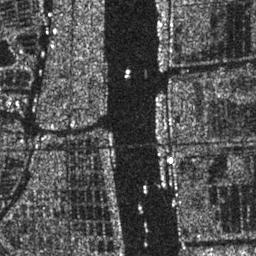ship: (155, 19, 165, 40), (156, 52, 166, 73), (106, 131, 115, 145), (124, 67, 131, 80), (143, 221, 150, 234), (137, 203, 144, 215), (143, 183, 148, 195), (171, 197, 176, 208), (52, 27, 58, 35), (43, 27, 49, 34), (38, 68, 43, 76), (41, 51, 45, 58)
